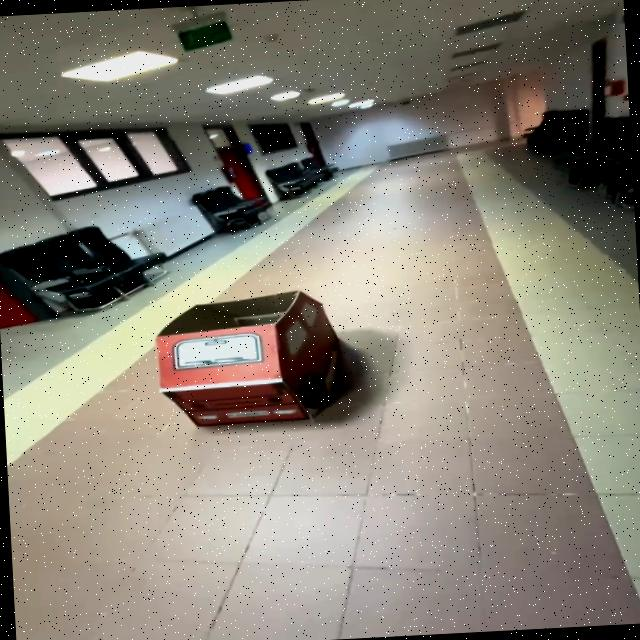red_car: (127, 274, 407, 440)
